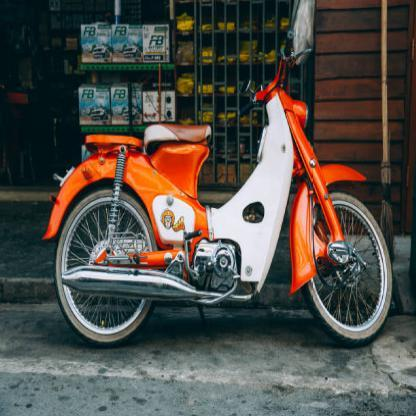Motorcycle: (41, 24, 398, 352)
